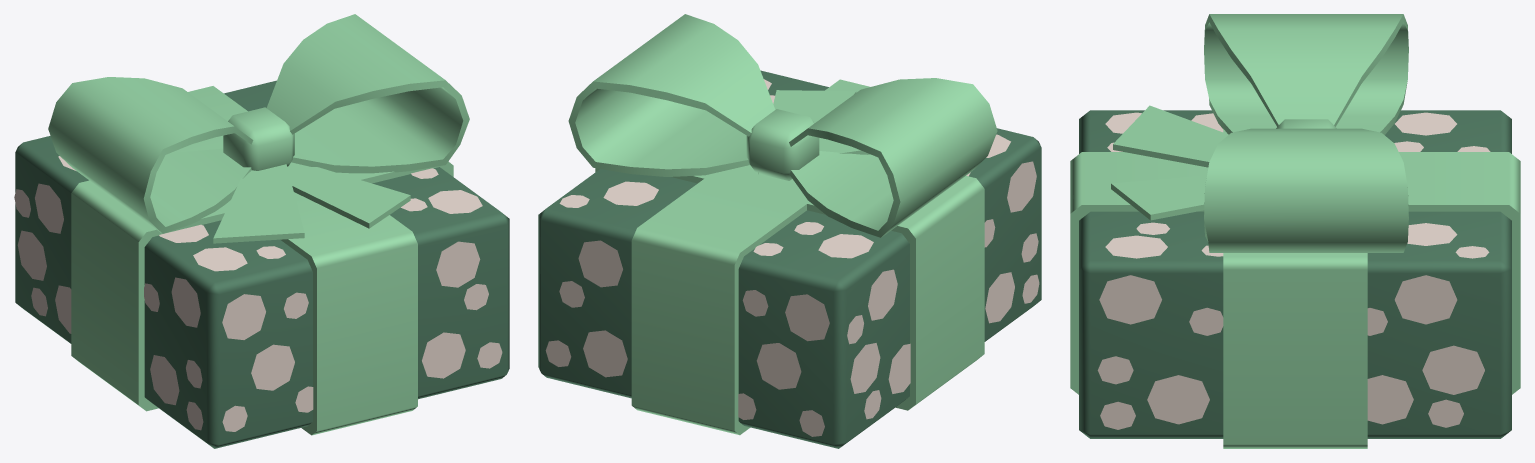
Rendered from Gift_28_231109.glb.
3 views of the same model, side by side, from view 1: azimuth 30°, elevation 25°; view 2: azimuth 150°, elevation 25°; view 3: azimuth 270°, elevation 25° (orthographic). The views are drawn at different scales.
Visible parts, largest first — view 1: Gift_28; view 2: Gift_28; view 3: Gift_28.
Boxes of the visible parts, <box> form: Gift_28: <box>14,14,509,448</box>; Gift_28: <box>538,14,1041,448</box>; Gift_28: <box>1070,14,1520,448</box>.
Size of the model in its own units: 0.5308 by 0.4131 by 0.5917.
Materials: 1 (1 with a texture image).
